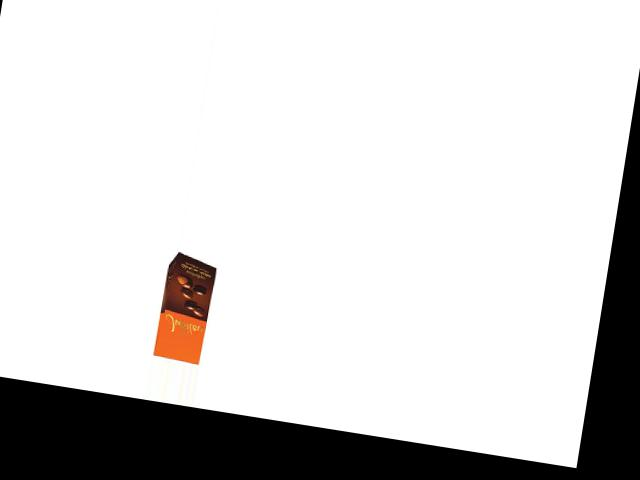chocolate: (150, 251, 224, 365)
